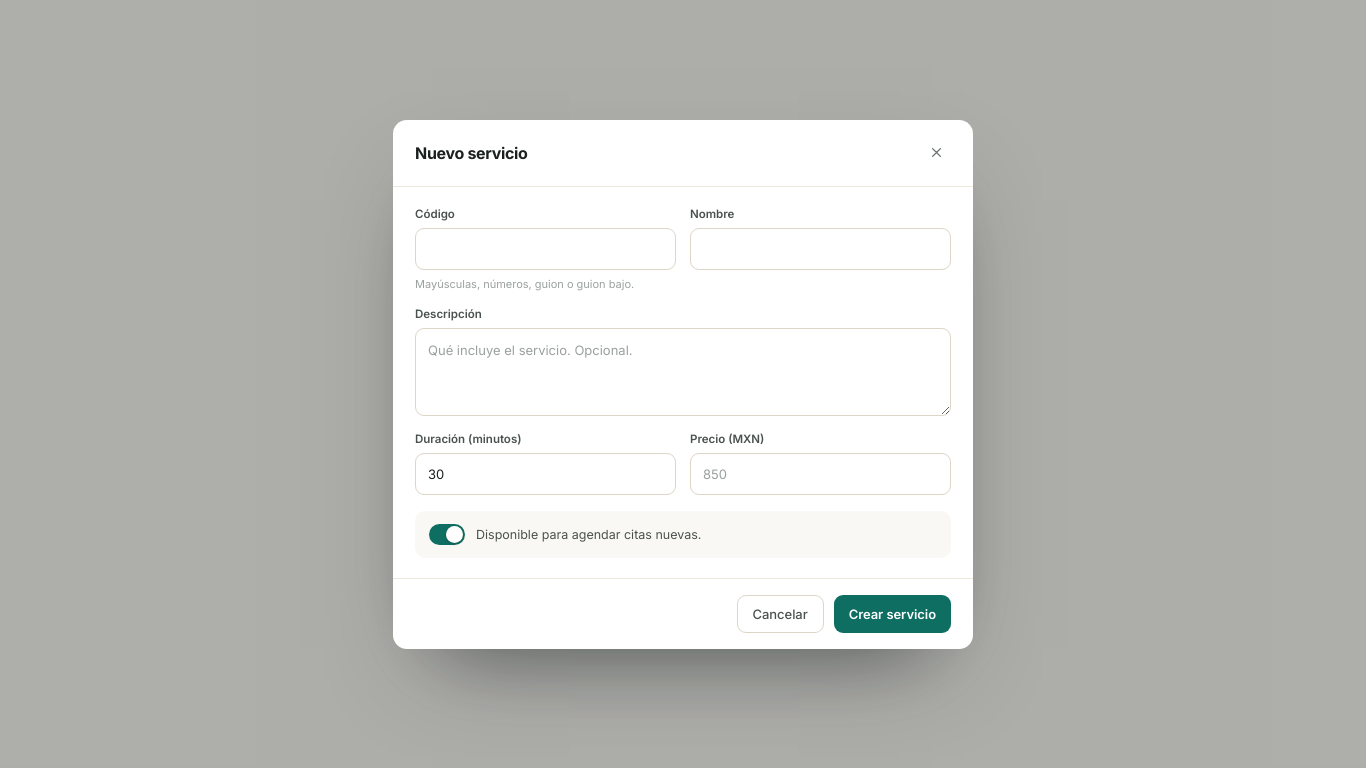
Test: ServiceFormModal in create mode › rejects a price with a thousands separator
The image size is (1366, 768).
Type "ORTO-01" into the field labelled "Código".
click(546, 248); type("ORTO-01")  # box [415,228,676,270]
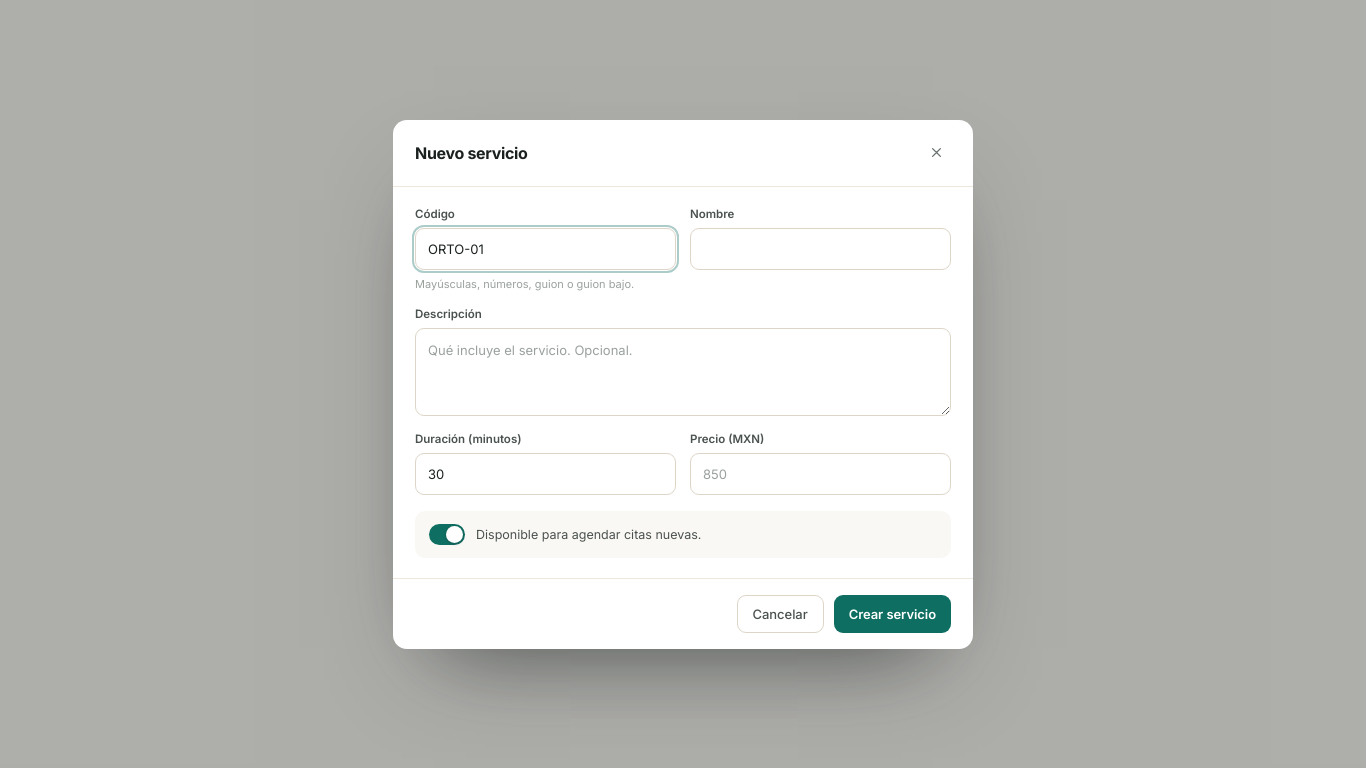
Type "Ortodoncia" into the field labelled "Nombre".
click(820, 248); type("Ortodoncia")  # box [690,228,951,270]
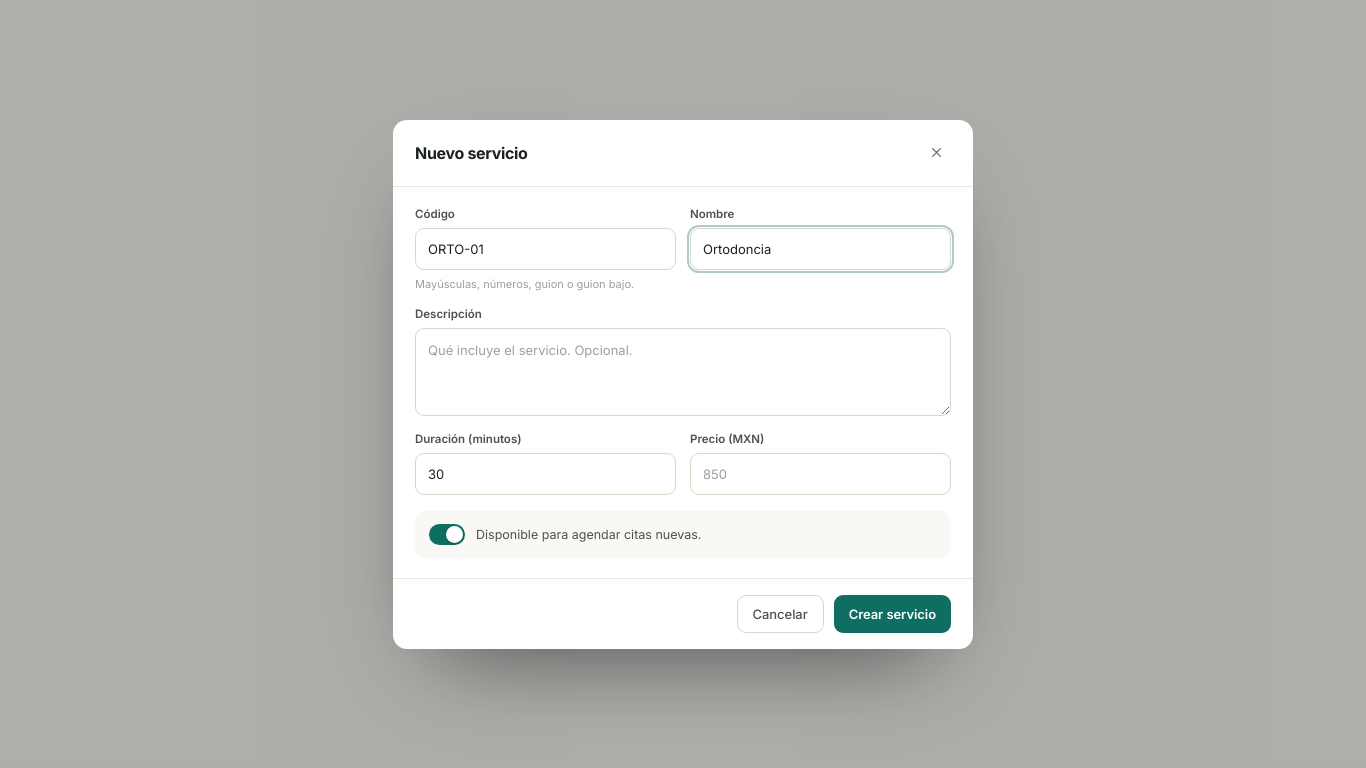
Type "1,850.00" into the field labelled "Precio (MXN)".
click(820, 474); type("1,850.00")  # box [690,452,951,494]
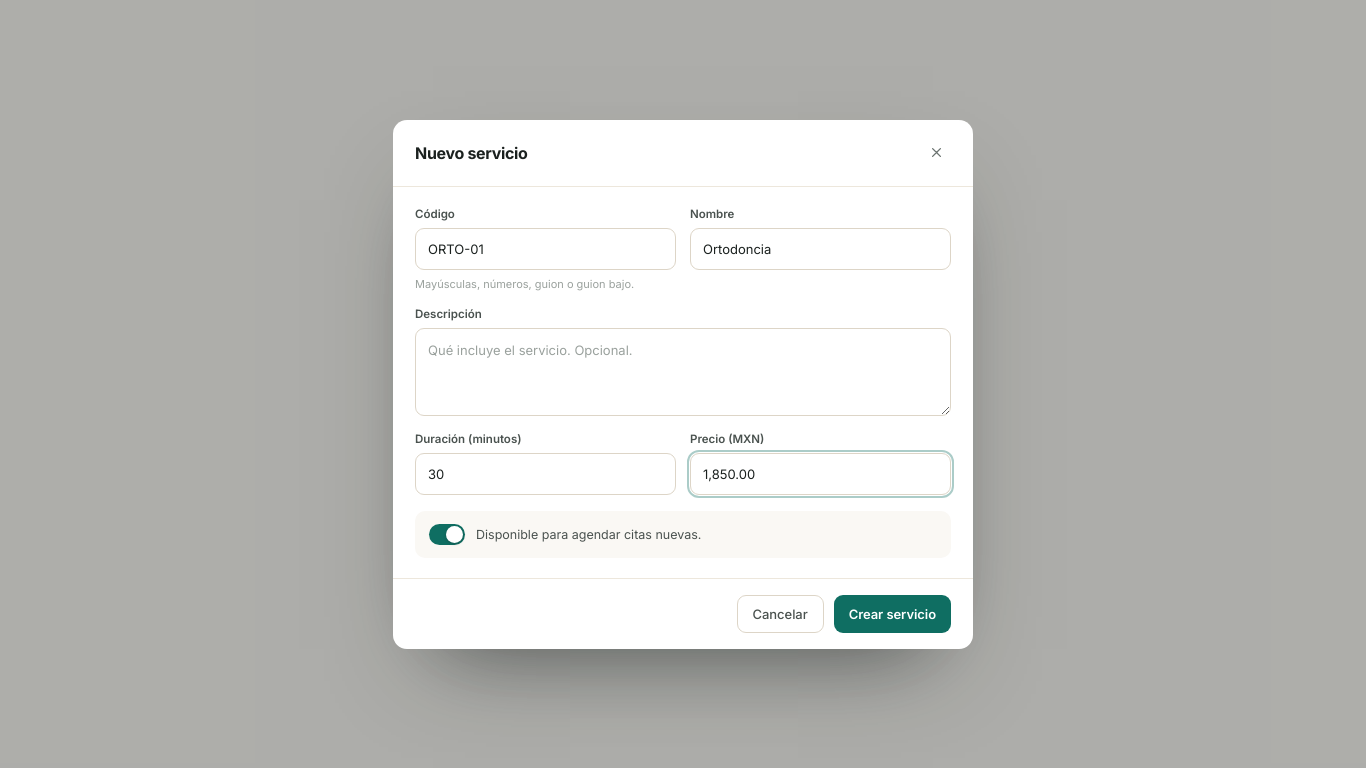
Click the button "Crear servicio".
click(892, 614)  # box [834,594,951,632]
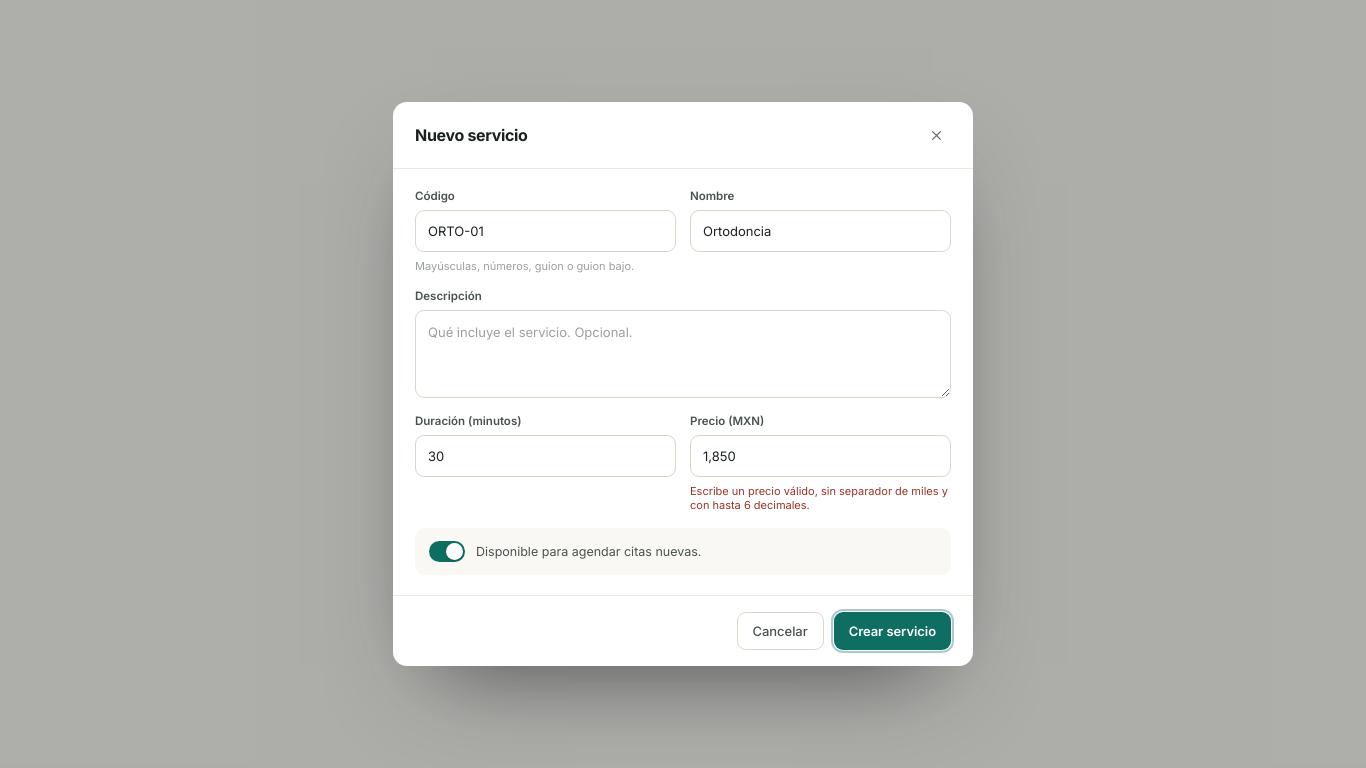
Expected: the text "Escribe un precio válido, sin separador de miles y con hasta 6 decimales." is shown, [690,484,951,512]
